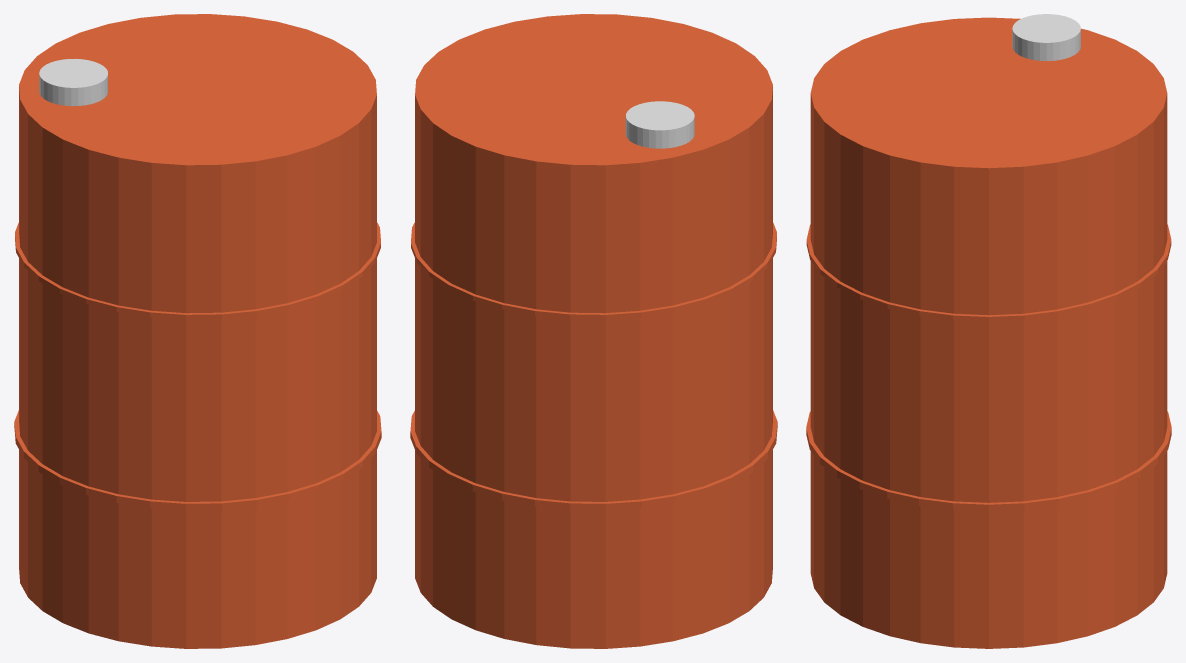
File: NotSoExplosiveBarrel.glb
3 renders of one model, left to right at view 1: azimuth 30°, elevation 25°; view 2: azimuth 150°, elevation 25°; view 3: azimuth 270°, elevation 25°, orthographic.
Visible parts, largest first — view 1: Cylinder, Cylinder.001; view 2: Cylinder, Cylinder.001; view 3: Cylinder, Cylinder.001.
Part boxes in pixels (bbox=[...]): Cylinder: bbox=[14, 14, 381, 648]; Cylinder.001: bbox=[39, 58, 107, 106]; Cylinder: bbox=[410, 14, 777, 648]; Cylinder.001: bbox=[625, 101, 694, 148]; Cylinder: bbox=[806, 17, 1171, 648]; Cylinder.001: bbox=[1012, 14, 1080, 60].
Bounding box in the file's own units: 0.5864 × 0.8832 × 0.5864.
